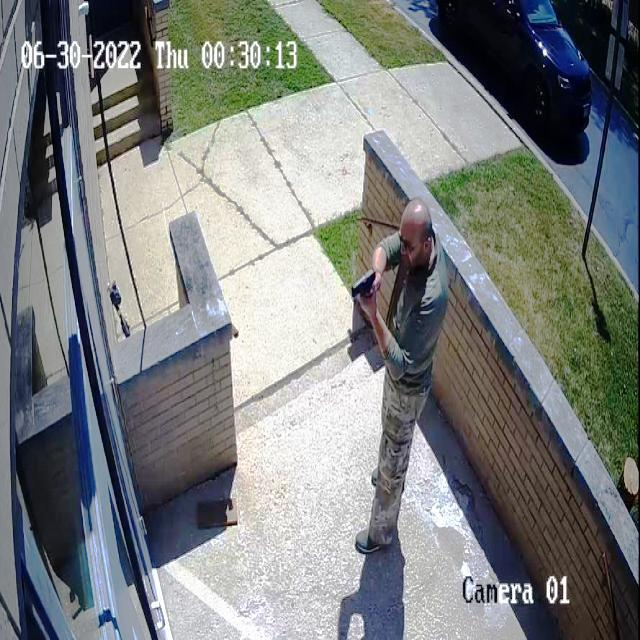Gun: (346, 263, 379, 302)
